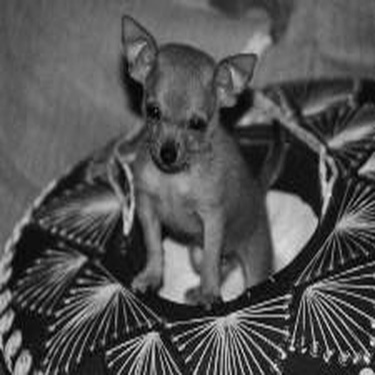dog: (95, 8, 280, 312)
